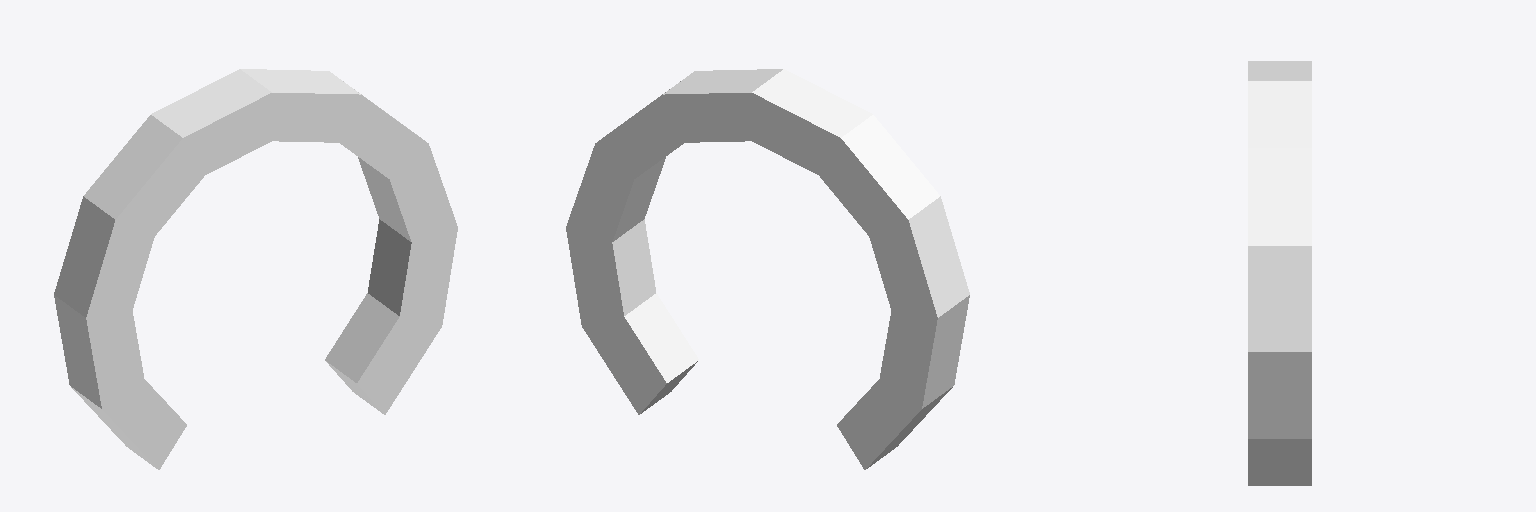
3 views of the same model, side by side, from view 1: azimuth 30°, elevation 25°; view 2: azimuth 150°, elevation 25°; view 3: azimuth 270°, elevation 25° (orthographic).
Parts seen in each view (by area): view 1: Layer_Model_Front; view 2: Layer_Model_Front; view 3: Layer_Model_Front.
Boxes of the visible parts, <box> form: Layer_Model_Front: <box>54,69,457,469</box>; Layer_Model_Front: <box>566,69,969,469</box>; Layer_Model_Front: <box>1248,61,1311,485</box>.
Size of the model in its own units: 0.7977 by 0.7183 by 0.12.